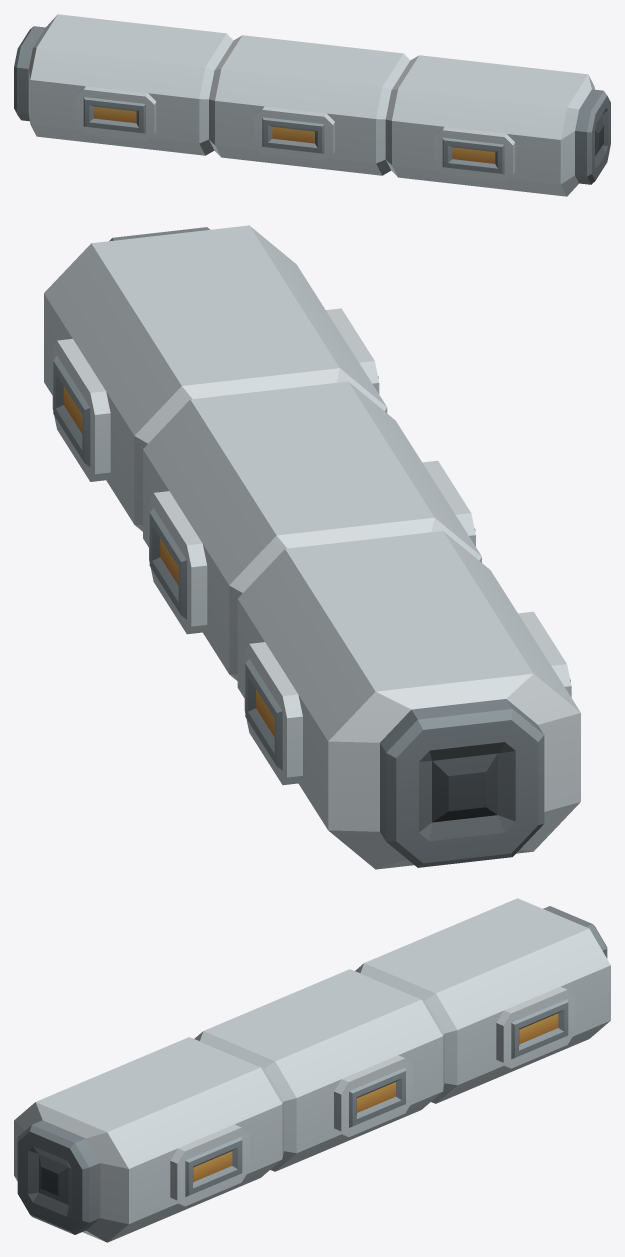
File: tunnel_diagonal_long_A.glb
3 views of the same model, one above another, from view 1: azimuth 30°, elevation 25°; view 2: azimuth 150°, elevation 25°; view 3: azimuth 270°, elevation 25° (orthographic). The views are drawn at different scales.
Visible parts, largest first — view 1: tunnel_diagonal_long_A; view 2: tunnel_diagonal_long_A; view 3: tunnel_diagonal_long_A.
Boxes of the visible parts, <box> form: tunnel_diagonal_long_A: <box>14,14,610,196</box>; tunnel_diagonal_long_A: <box>44,225,580,869</box>; tunnel_diagonal_long_A: <box>14,898,610,1242</box>.
Bounding box in the file's own units: 2.94 × 0.6 × 2.94.
Materials: 1 (1 with a texture image).
